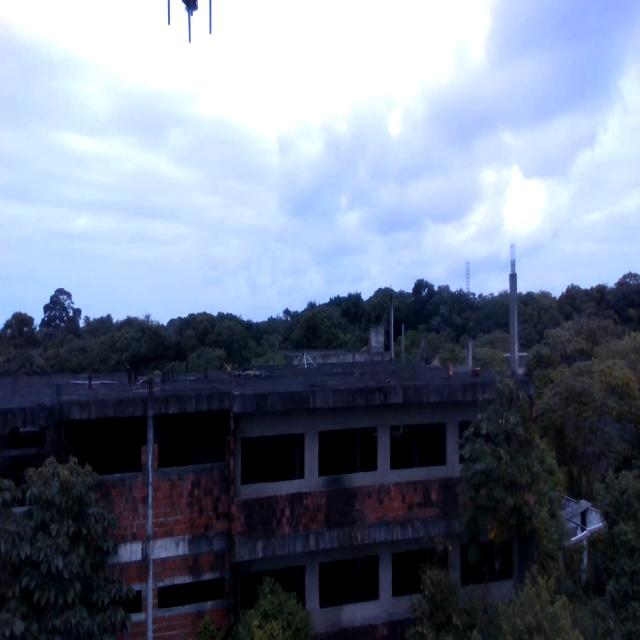-uav-: (158, 0, 224, 49)
